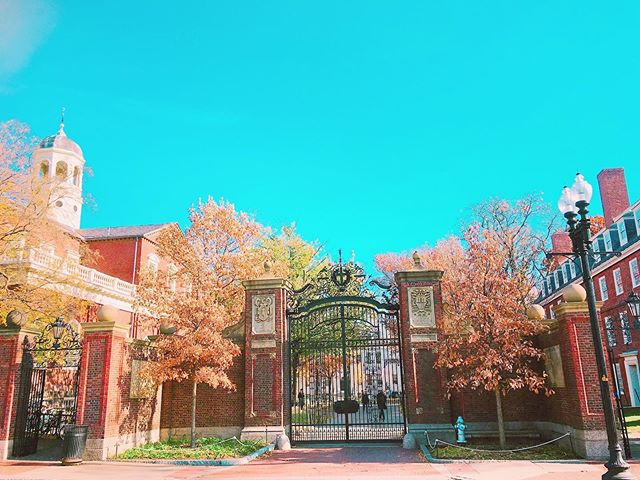building: (8, 241, 198, 469), (541, 212, 640, 470), (31, 130, 92, 232)
gate: (258, 292, 416, 444)
light pole: (545, 173, 638, 480)
sky: (1, 1, 634, 209)
tree: (135, 209, 250, 397), (440, 205, 551, 392)
